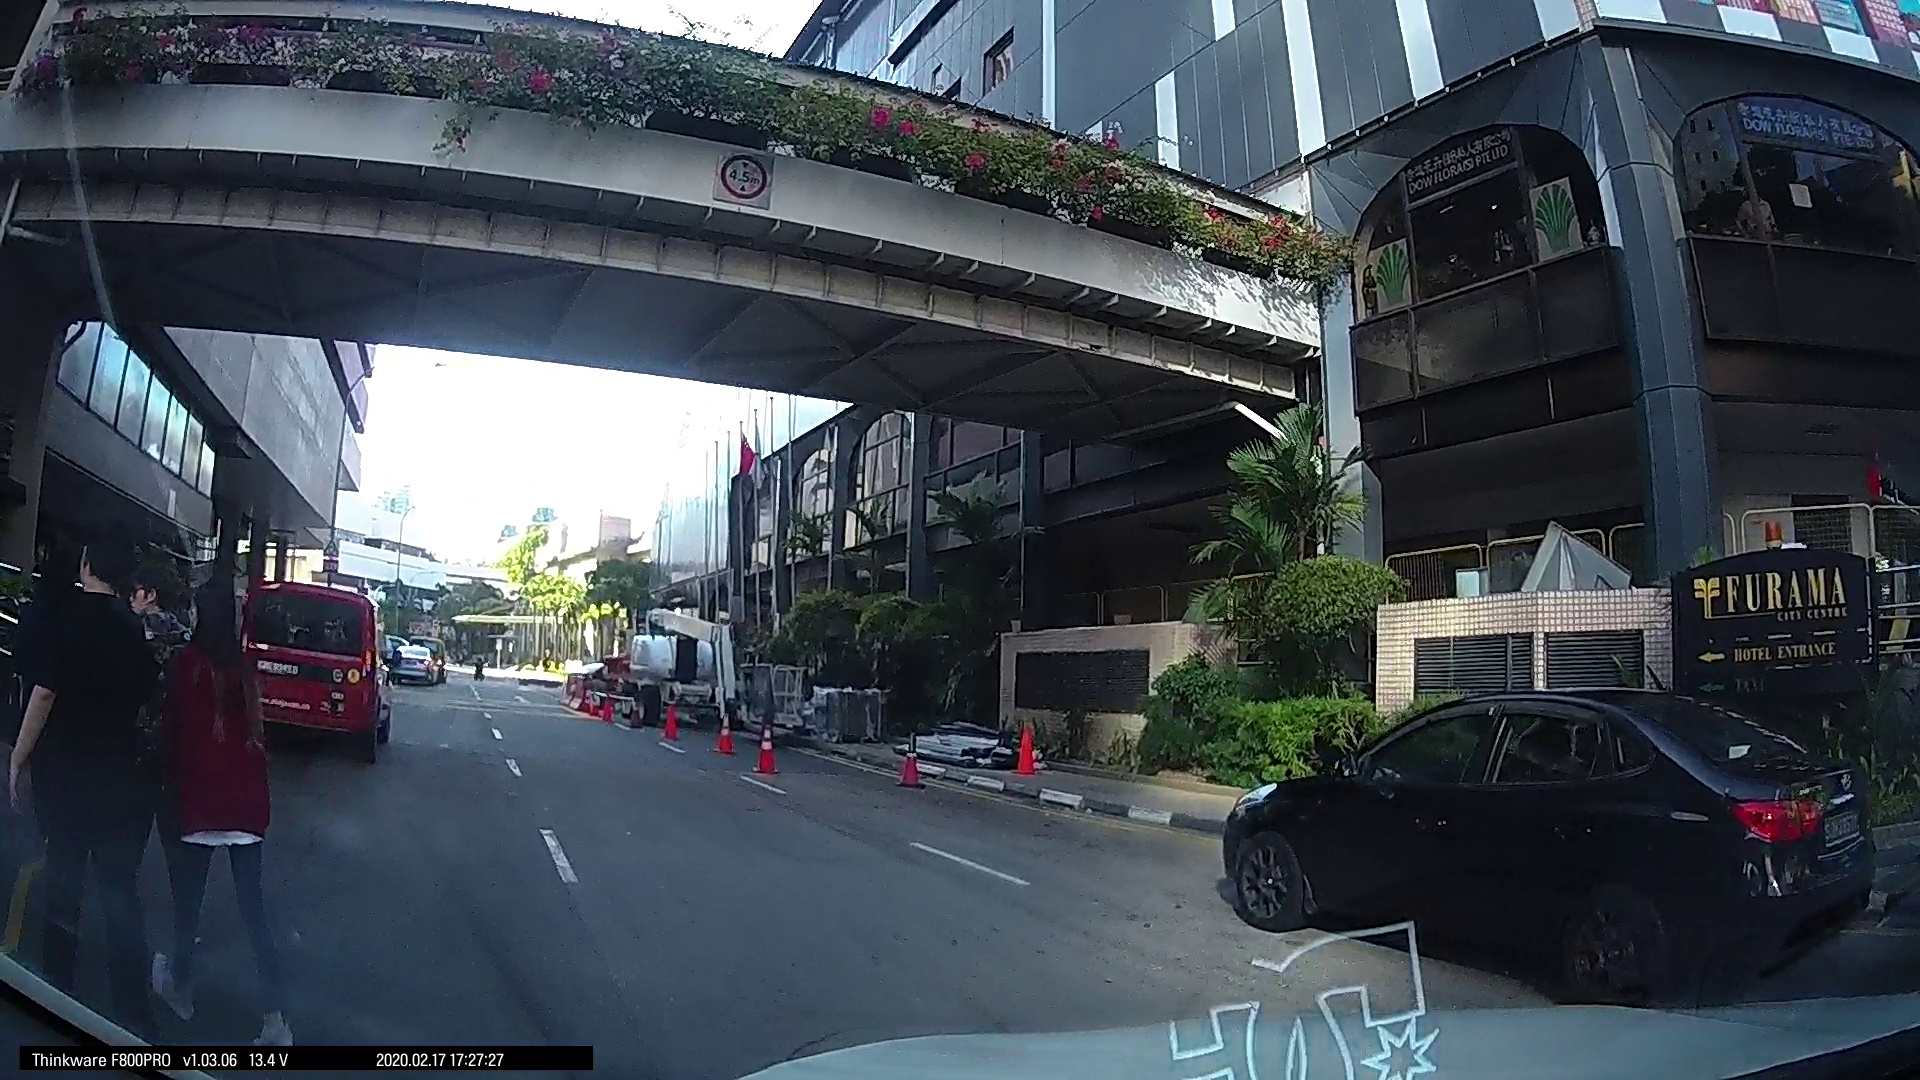Heavy Vehicle: (12, 378, 396, 1035), (1714, 582, 1919, 872), (819, 622, 898, 703)
Light Vehicle: (342, 578, 757, 902), (1299, 666, 1436, 771), (727, 644, 806, 773), (752, 641, 822, 756), (1065, 649, 1122, 699), (959, 655, 1009, 699)
